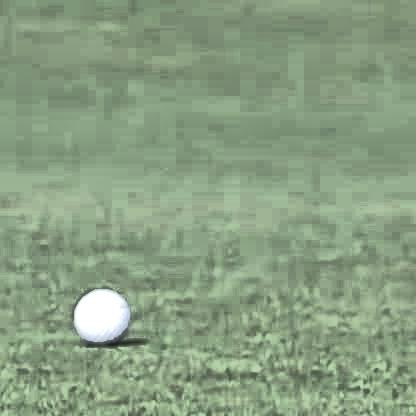golfball: (72, 282, 126, 341)
